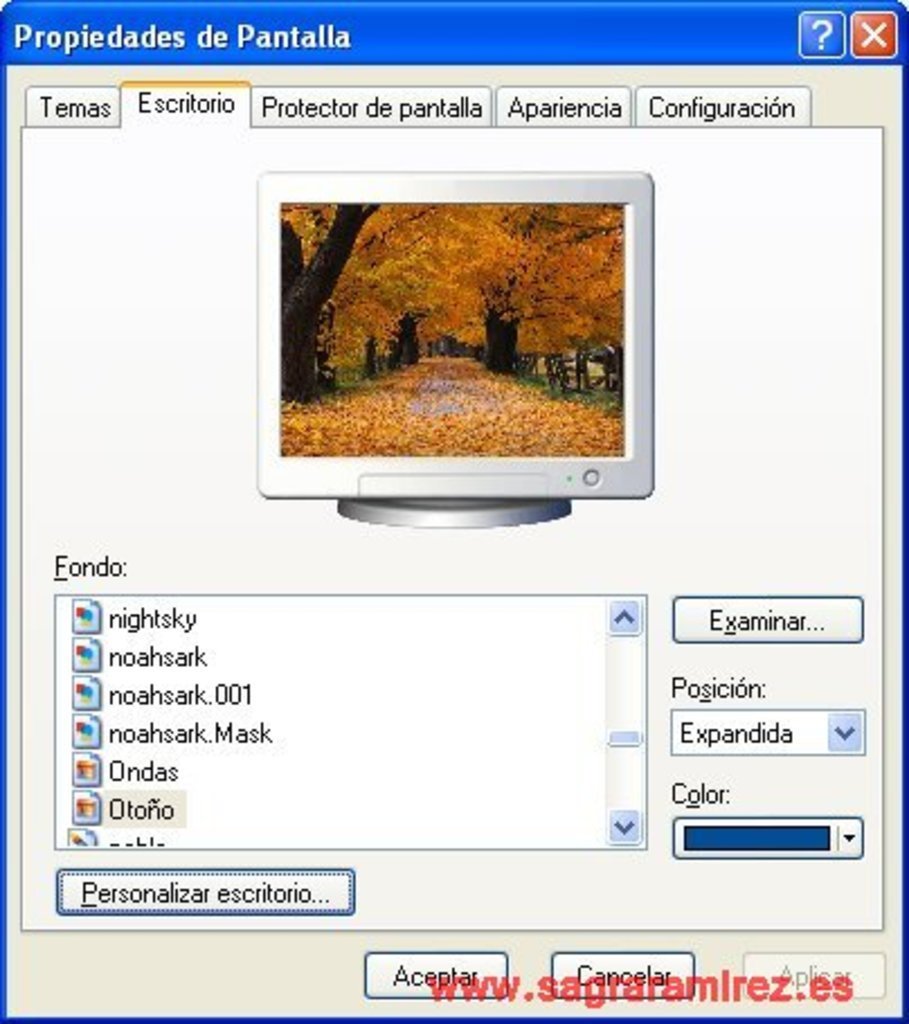Tree: (281, 203, 623, 406)
